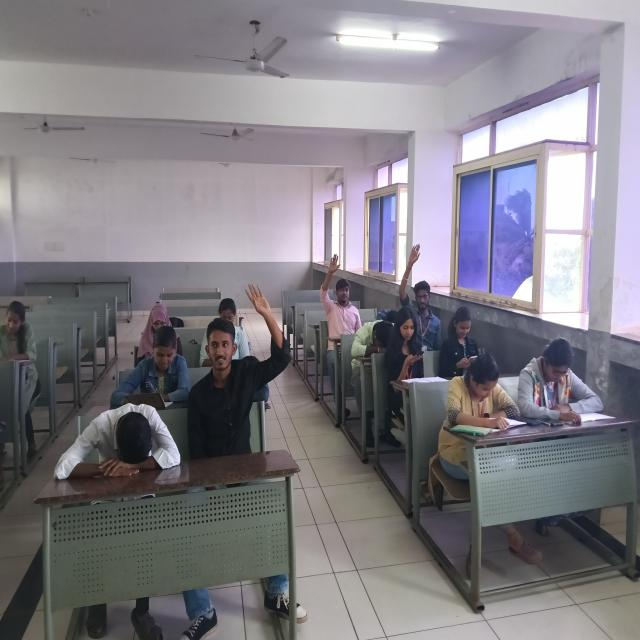Hand Rising: (193, 290, 303, 426), (313, 247, 366, 340), (402, 241, 453, 333)
Reading: (513, 345, 614, 427), (442, 363, 522, 440)
Sleeping: (45, 394, 189, 489), (352, 308, 411, 359), (366, 293, 416, 326)
Using Phone: (443, 305, 495, 367)
Writing: (114, 329, 200, 404)
